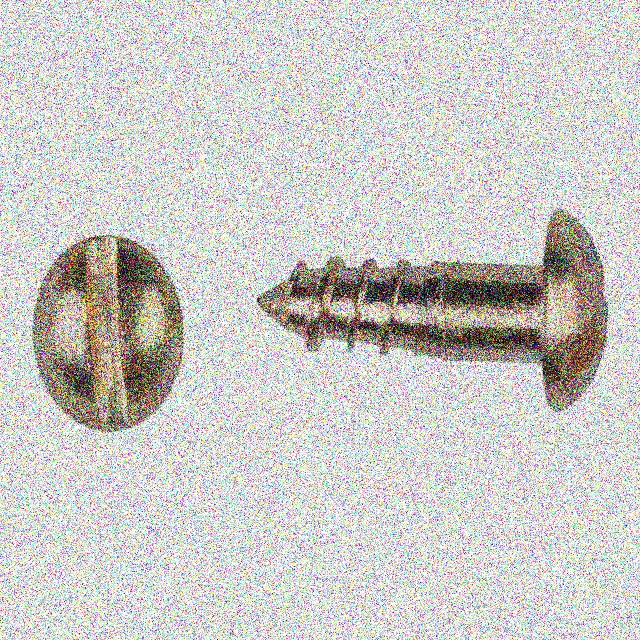duz: (31, 235, 184, 435)
